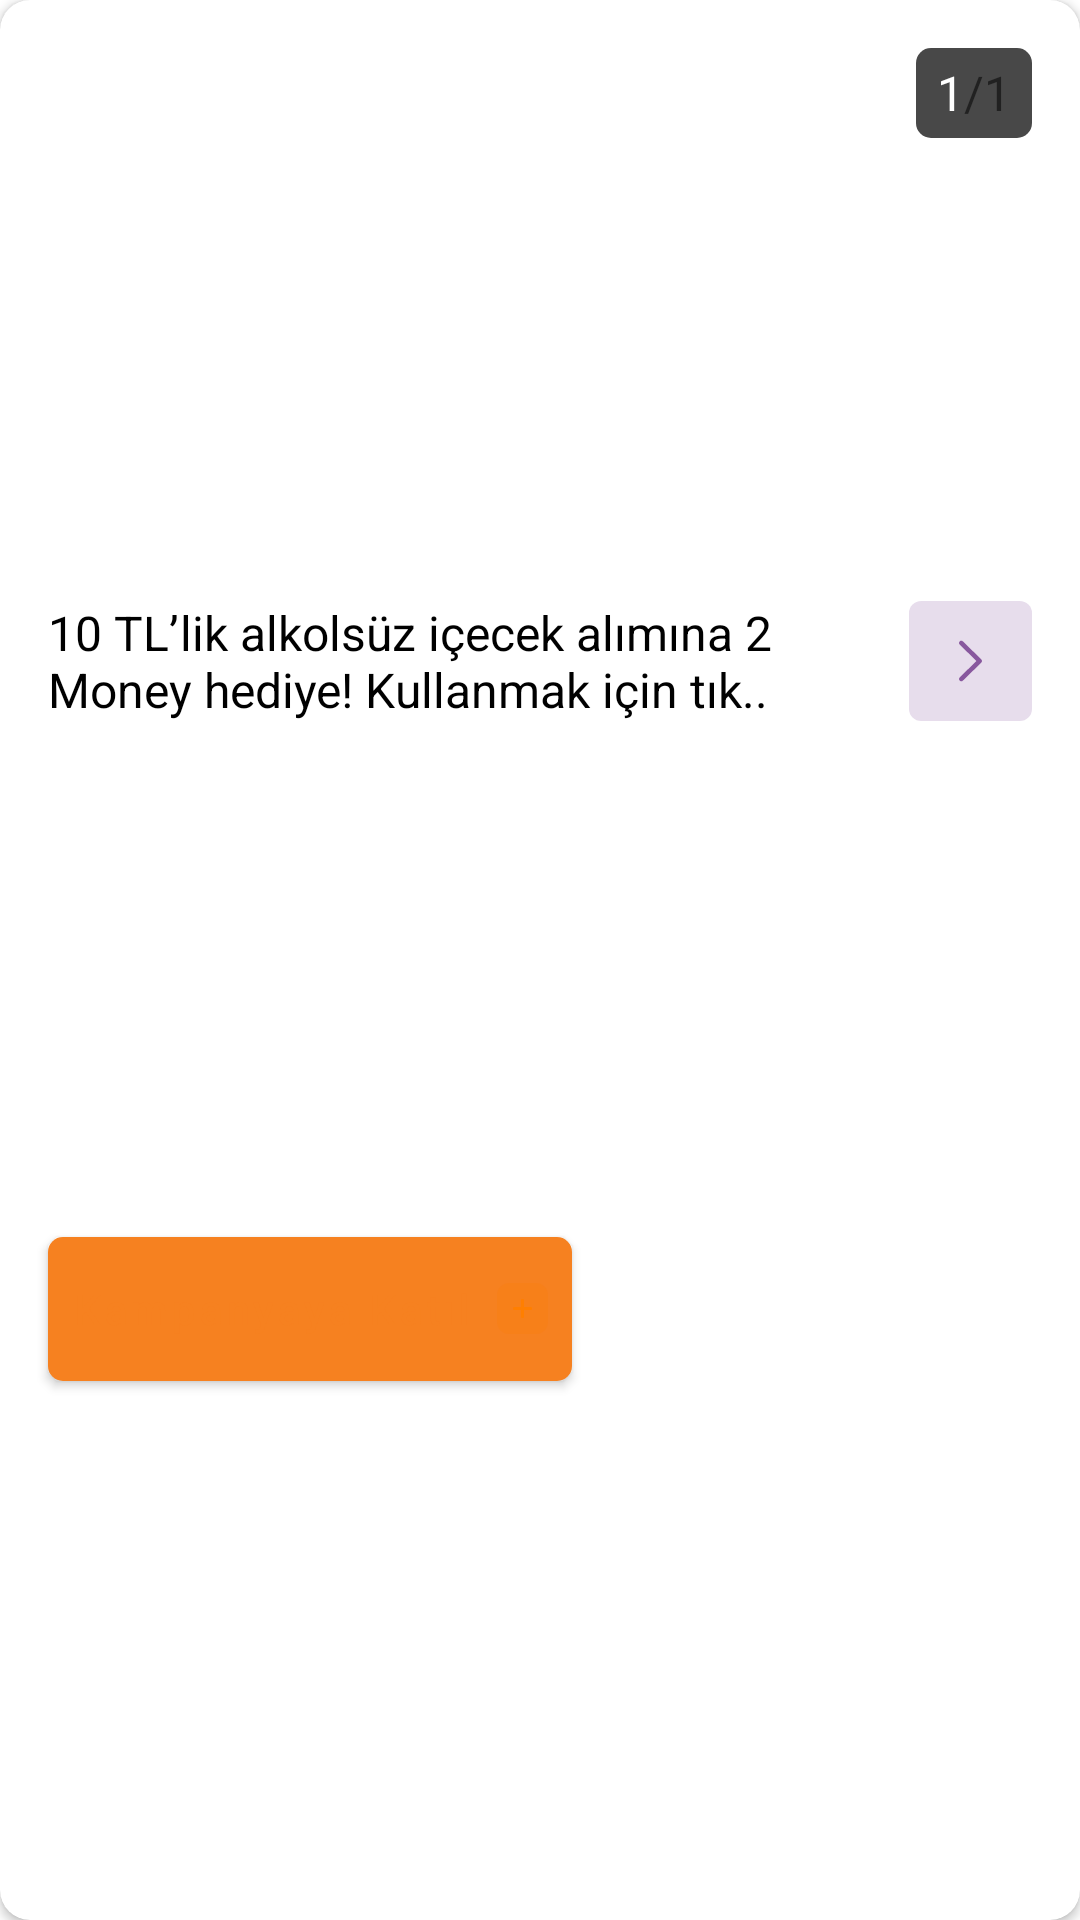

Icon bounding boxes for this 1080px×1920px phone screenshot, format (x1, y1, x2, y2):
detailbtn: (909, 601, 1032, 721)
